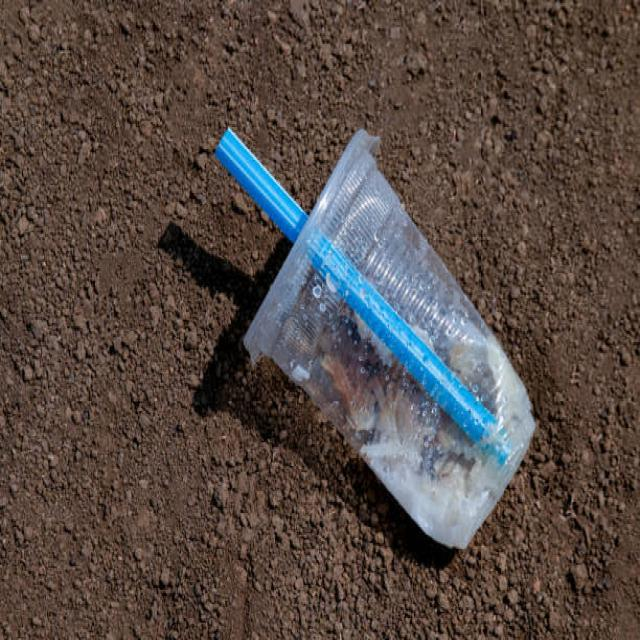plastic: (221, 120, 553, 567)
